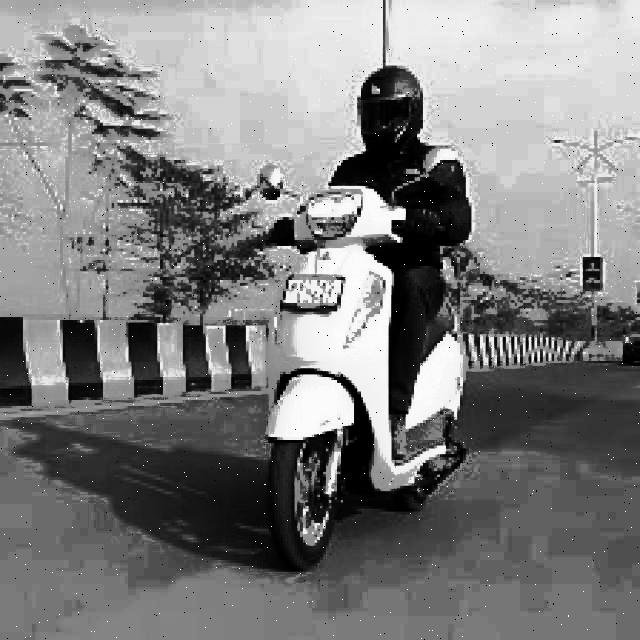Bike: (249, 149, 475, 575)
